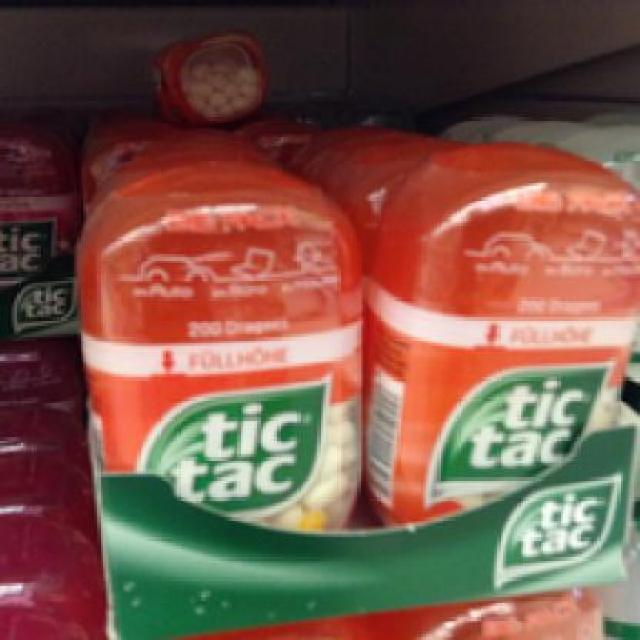Candy: (70, 151, 364, 560), (357, 132, 632, 552)
